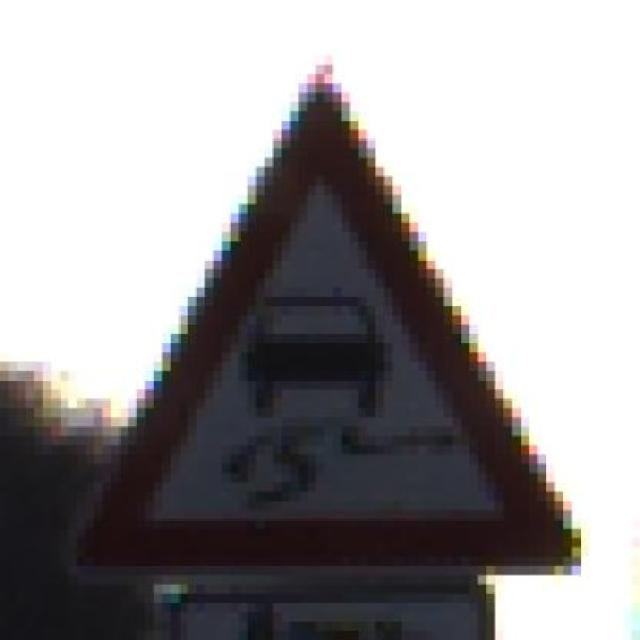Slippery Road Ahead: (51, 73, 589, 584)
